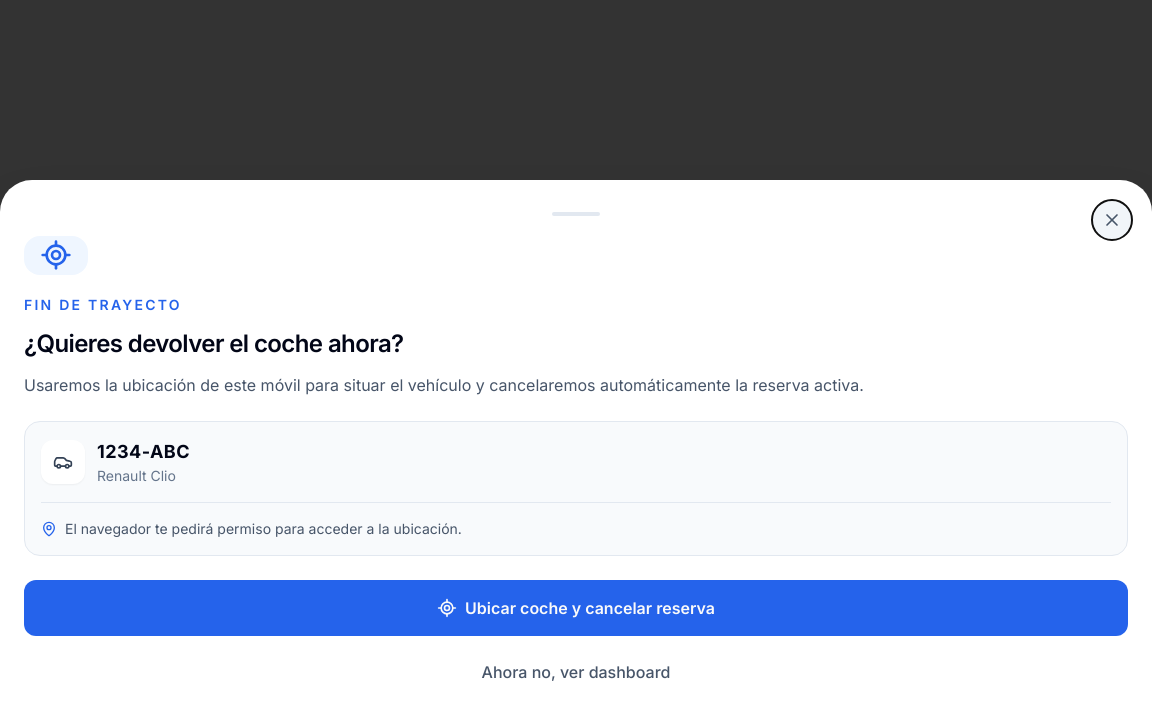
MobileActiveReservation › guarda la ubicación antes de cancelar la reserva
Click the button "Ubicar coche y cancelar reserva": [576, 608] box x1=24 y1=580 x2=1128 y2=636
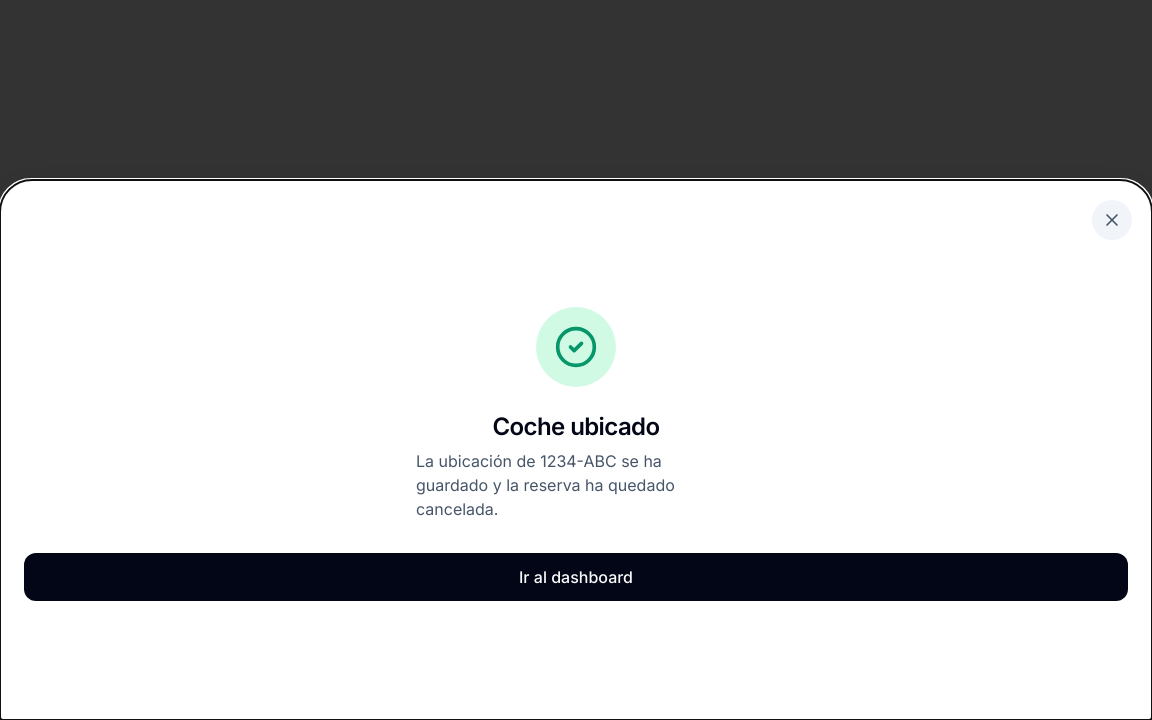
Now the heading "Coche ubicado" is shown, box x1=492 y1=411 x2=660 y2=443
